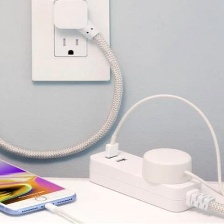phone: (0, 153, 79, 217)
three_eye_plug: (85, 145, 203, 215), (28, 0, 115, 87)
